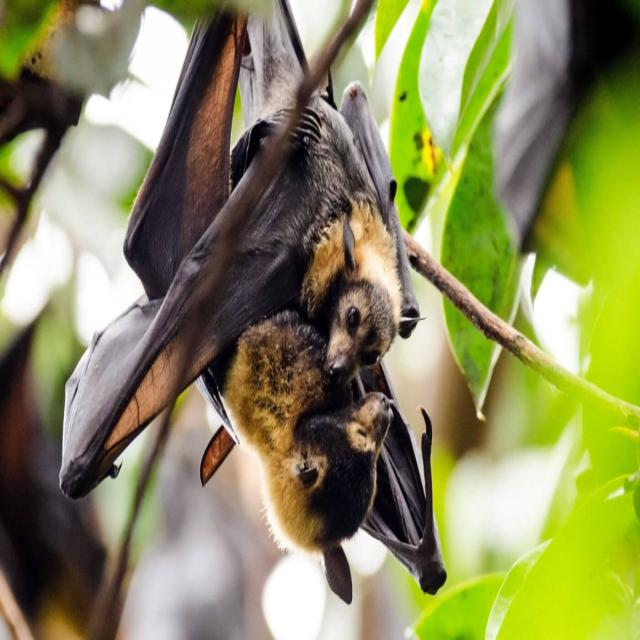Bat: (72, 36, 439, 566), (272, 47, 428, 377)
